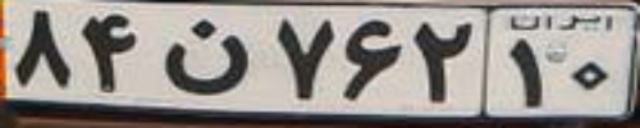0: (566, 61, 611, 92)
1: (509, 36, 546, 108)
2: (413, 19, 475, 103)
4: (78, 13, 140, 93)
6: (341, 18, 403, 102)
7: (274, 16, 334, 100)
8: (15, 7, 72, 91)
non: (160, 17, 249, 96)
